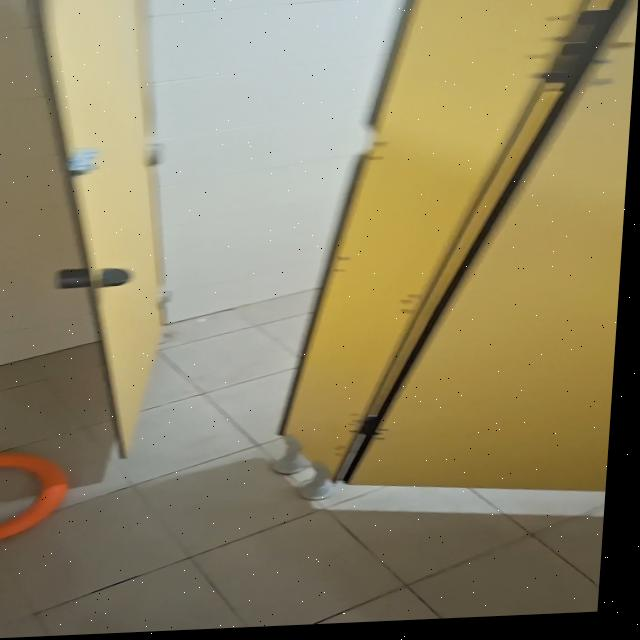note: (0, 450, 80, 547)
